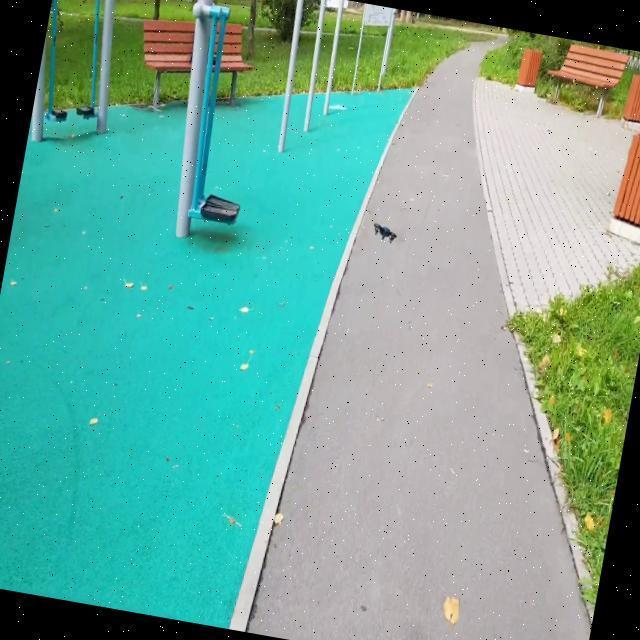Drons: (367, 220, 403, 247)
